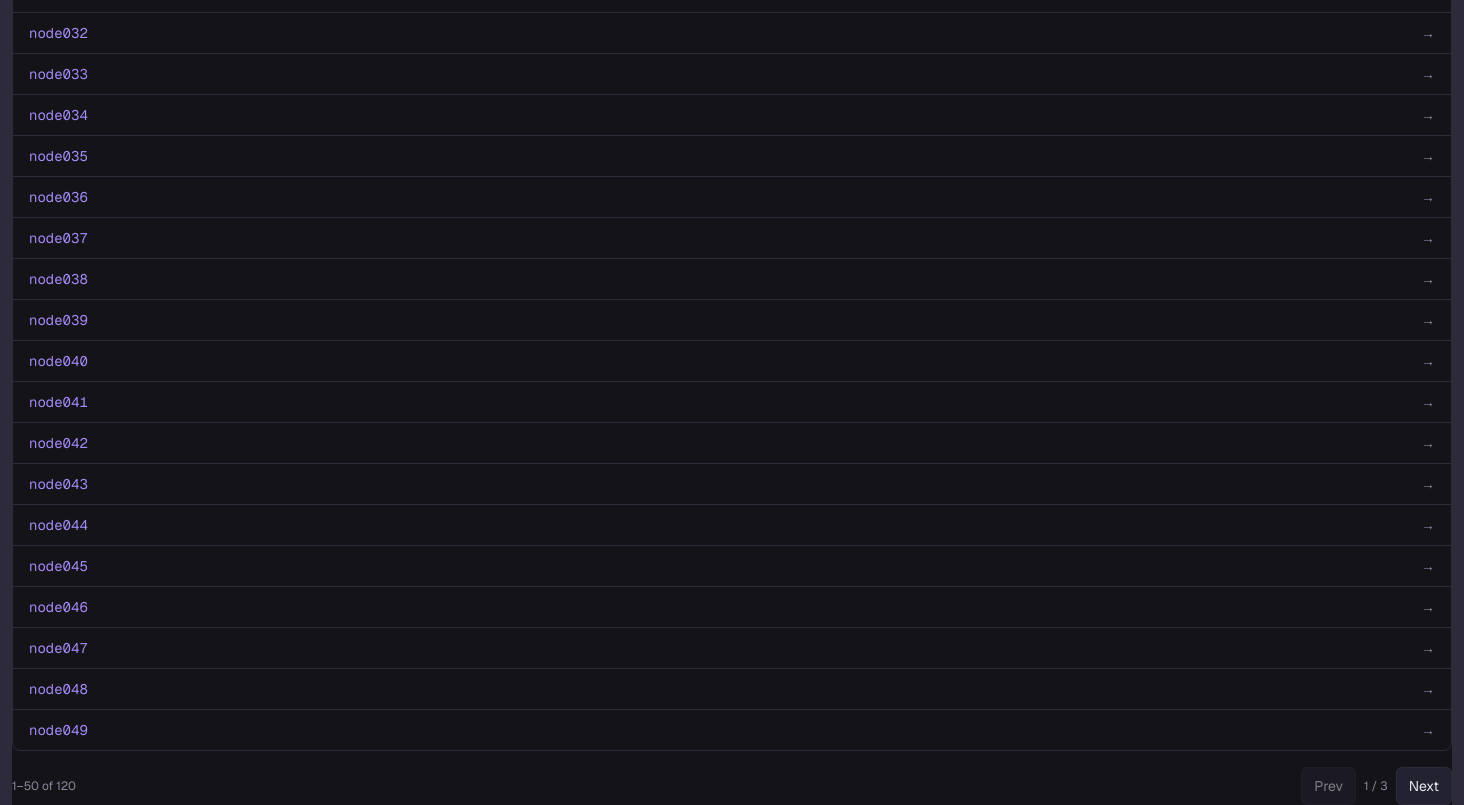
Test: ResourceTable › paginates large lists to 50 rows per page
(page scrolled)
Expected: the text "1–50 of 120" is shown, [12,778,76,794]
Expected: the text "1 / 3" is shown, [1364,778,1388,794]
Click the button with aria-label "Next page" at point(1424, 786), box [1396,767,1452,804]
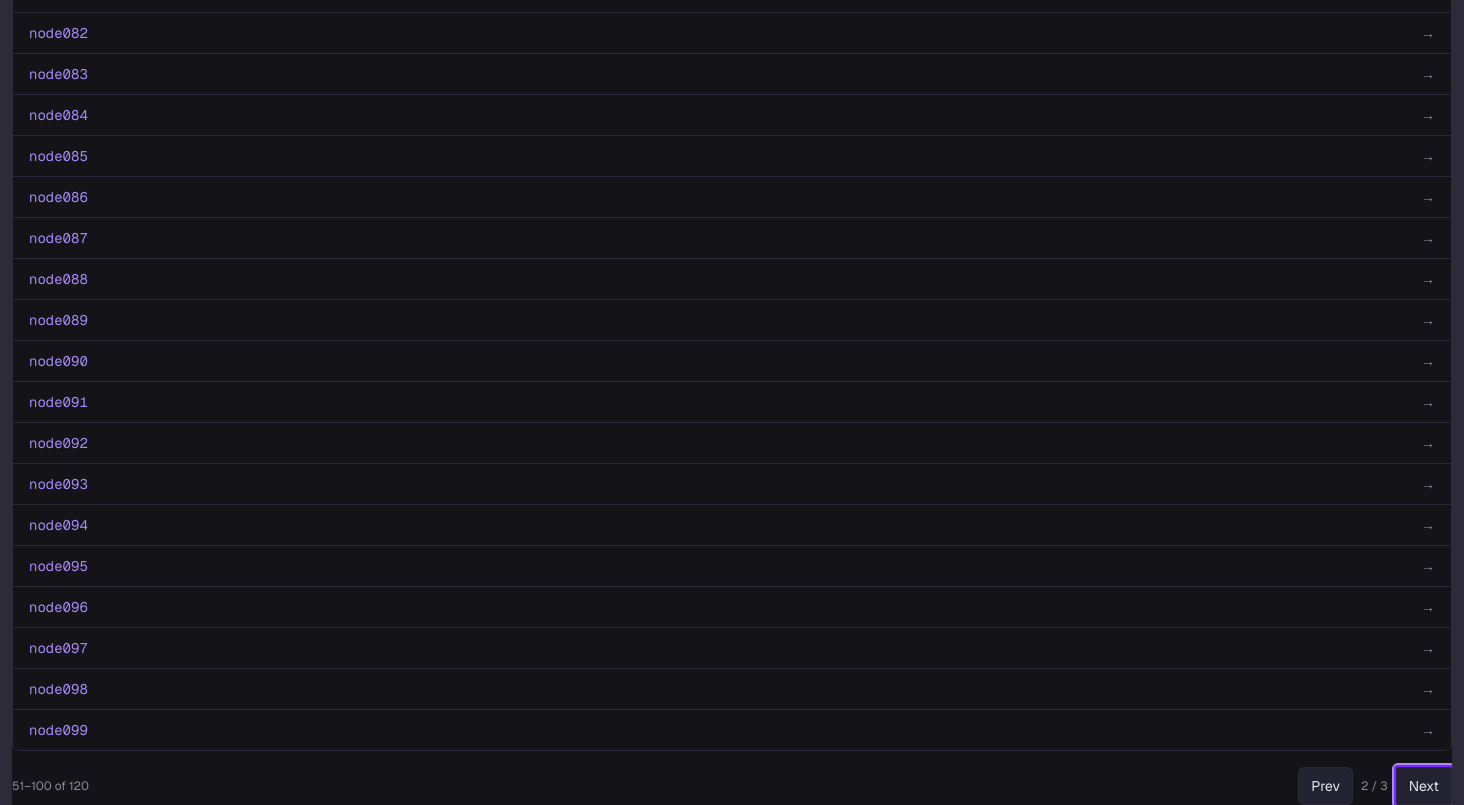
Result: the text "51–100 of 120" is shown at [12,778,89,794]
Click the button with aria-label "Next page" at point(1424, 786), box [1396,767,1452,804]
(page scrolled)
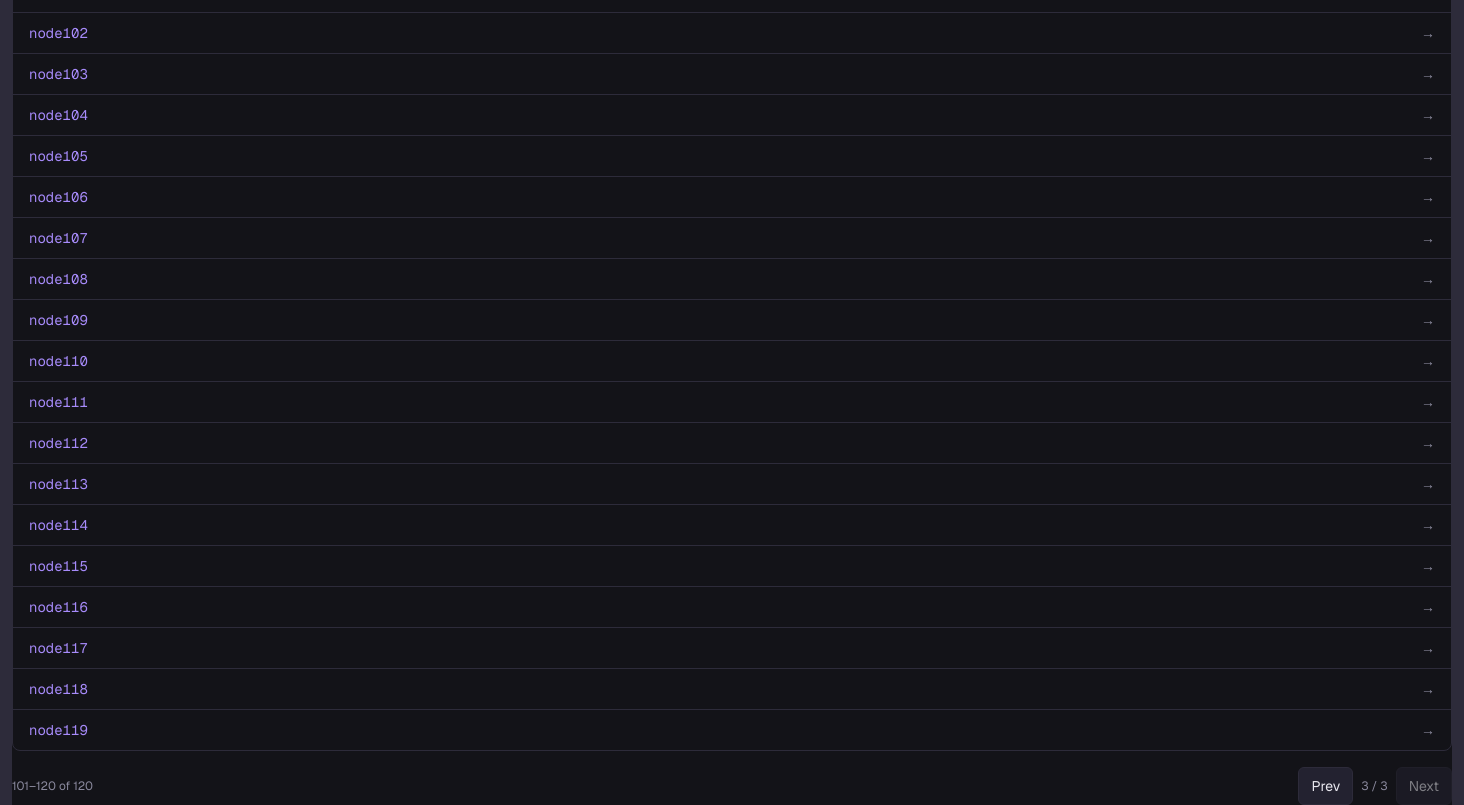
Result: the text "101–120 of 120" is shown at [12,778,93,794]
Result: the button with aria-label "Next page" is disabled at [1396,767,1452,804]
